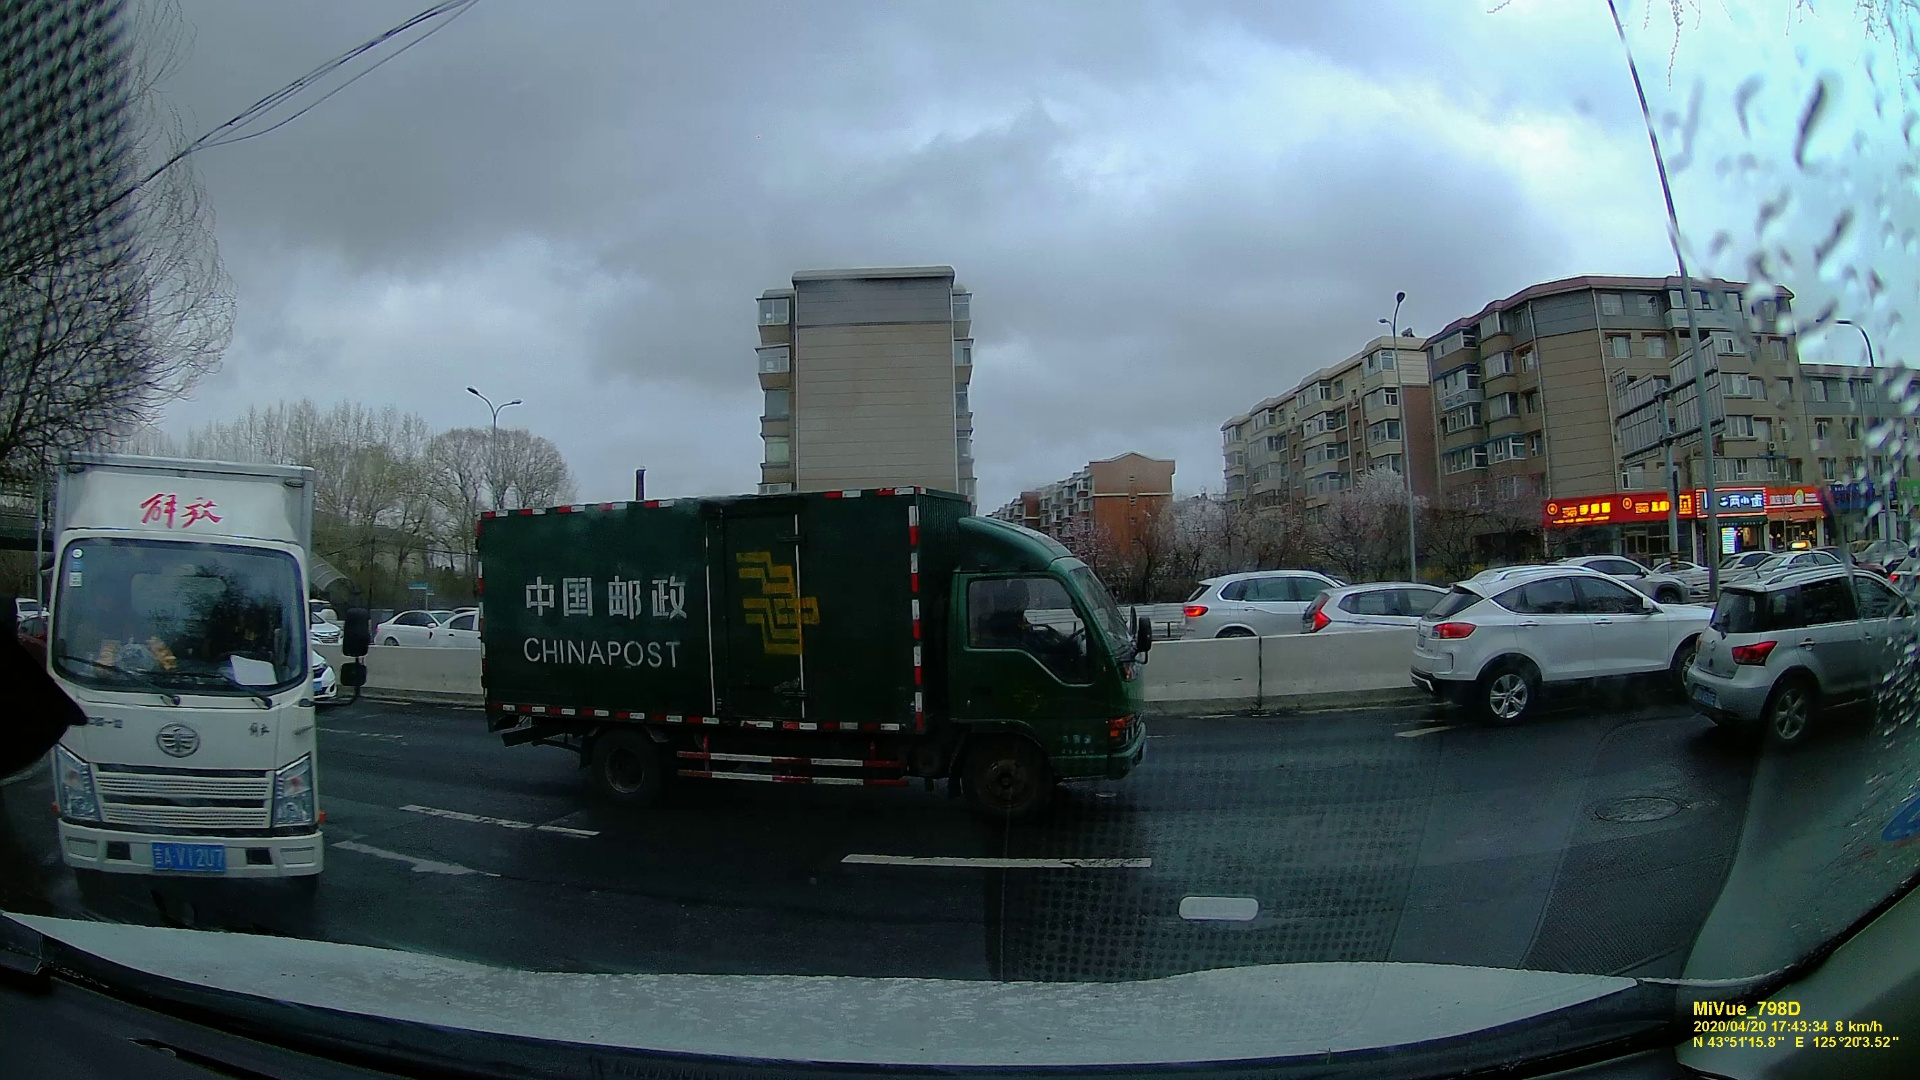truck: (485, 489, 1153, 812), (28, 450, 323, 930)
vehicle: (1412, 566, 1691, 712), (1695, 564, 1915, 745), (1182, 567, 1352, 637), (1305, 578, 1453, 640), (367, 608, 451, 645)
